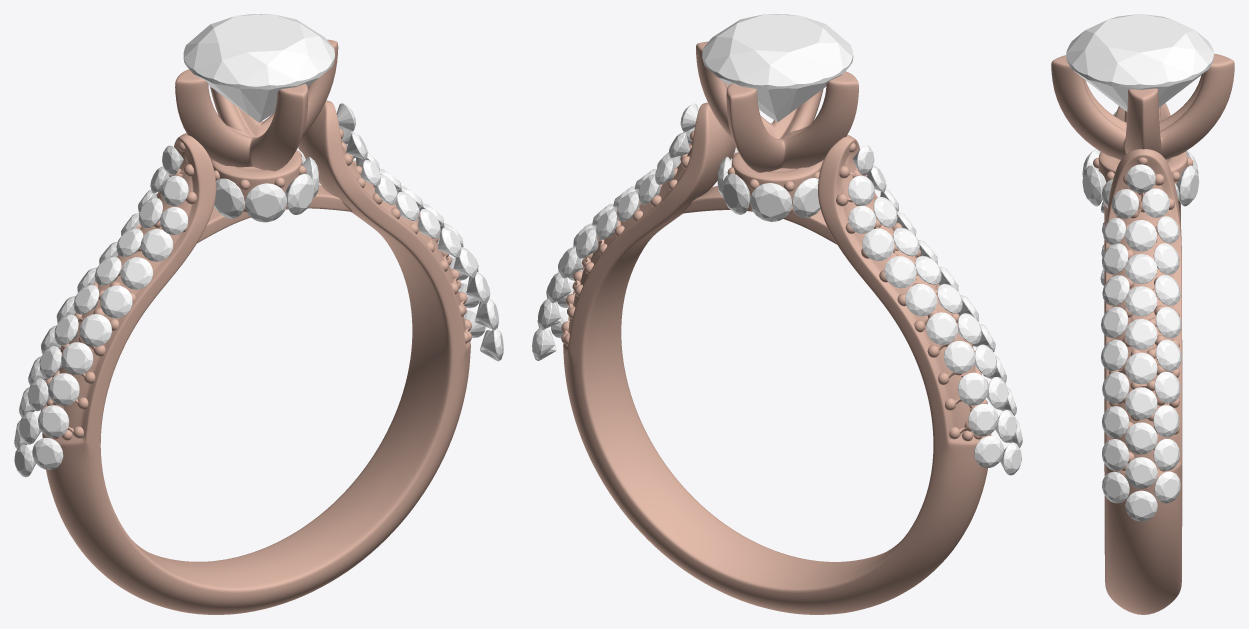
3 views of the same model, side by side, from view 1: azimuth 30°, elevation 25°; view 2: azimuth 150°, elevation 25°; view 3: azimuth 270°, elevation 25° (orthographic). The views are drawn at different scales.
Parts seen in each view (by area): view 1: ring, diamonds; view 2: ring, diamonds; view 3: diamonds, ring.
Part boxes in pixels (bbox=[...]): ring: bbox=[40, 39, 471, 614]; diamonds: bbox=[14, 14, 503, 477]; ring: bbox=[561, 41, 991, 614]; diamonds: bbox=[532, 14, 1022, 475]; diamonds: bbox=[1066, 14, 1213, 521]; ring: bbox=[1051, 53, 1234, 614].
Bounding box in the file's own units: 11.9 × 13.57 × 4.03.
